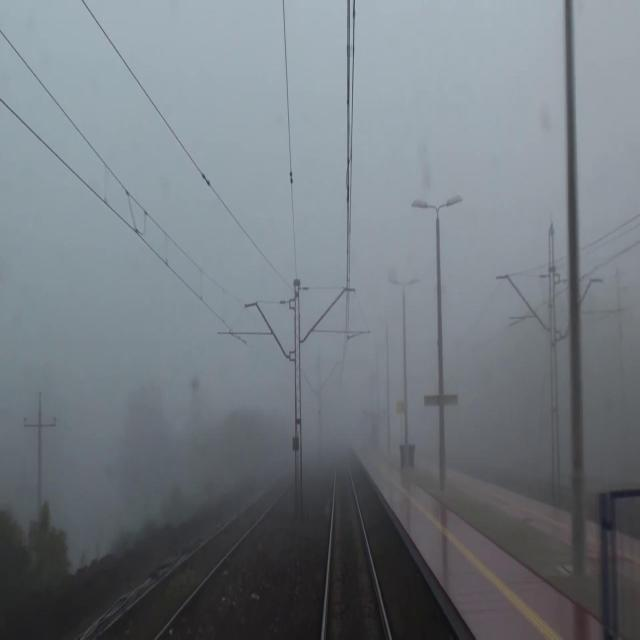rail-track: (102, 466, 294, 639), (326, 449, 387, 639)
